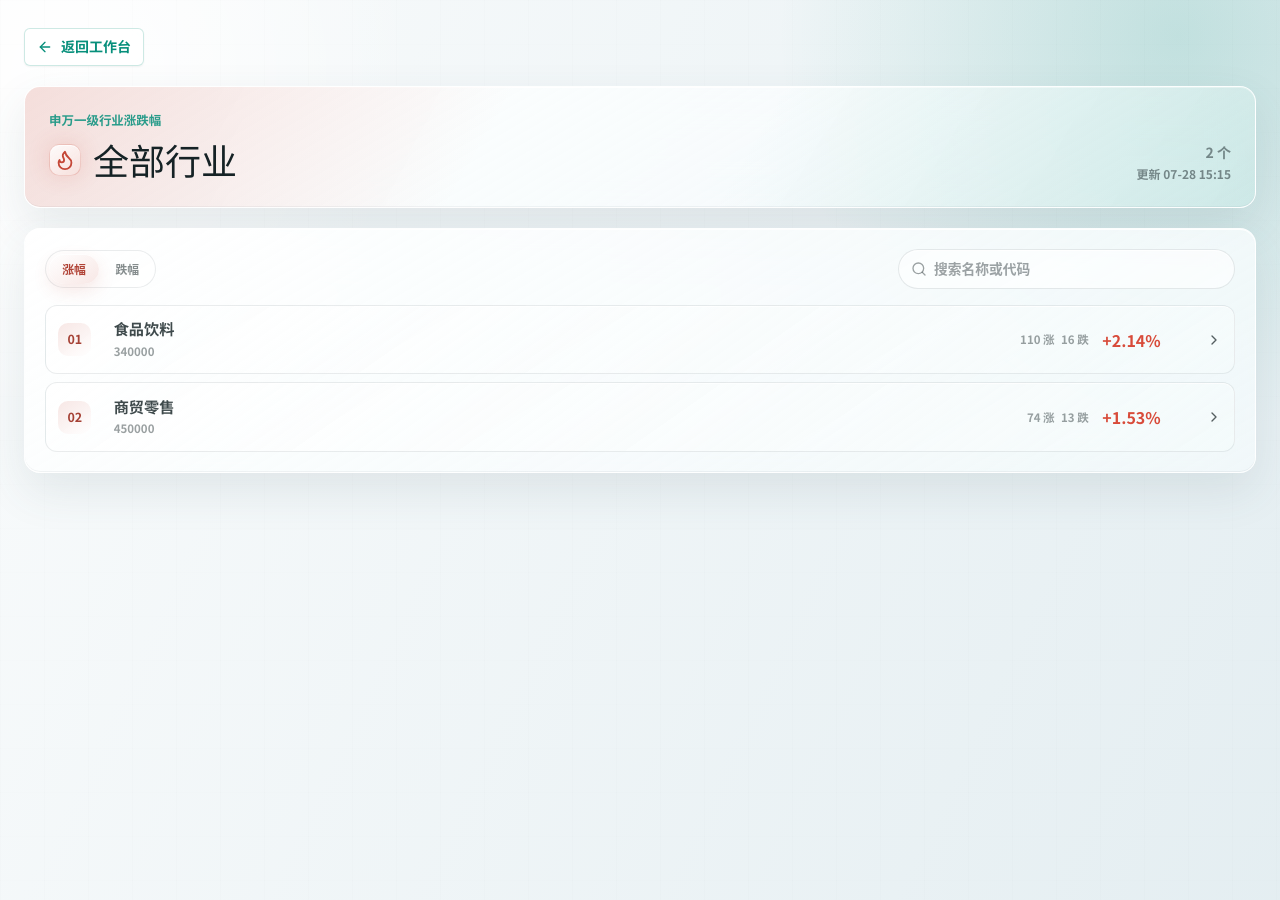
HotspotListView › switches to decline ranking and filters by name or code
Click the button "跌幅" at (127, 269), box [102,254,152,284]
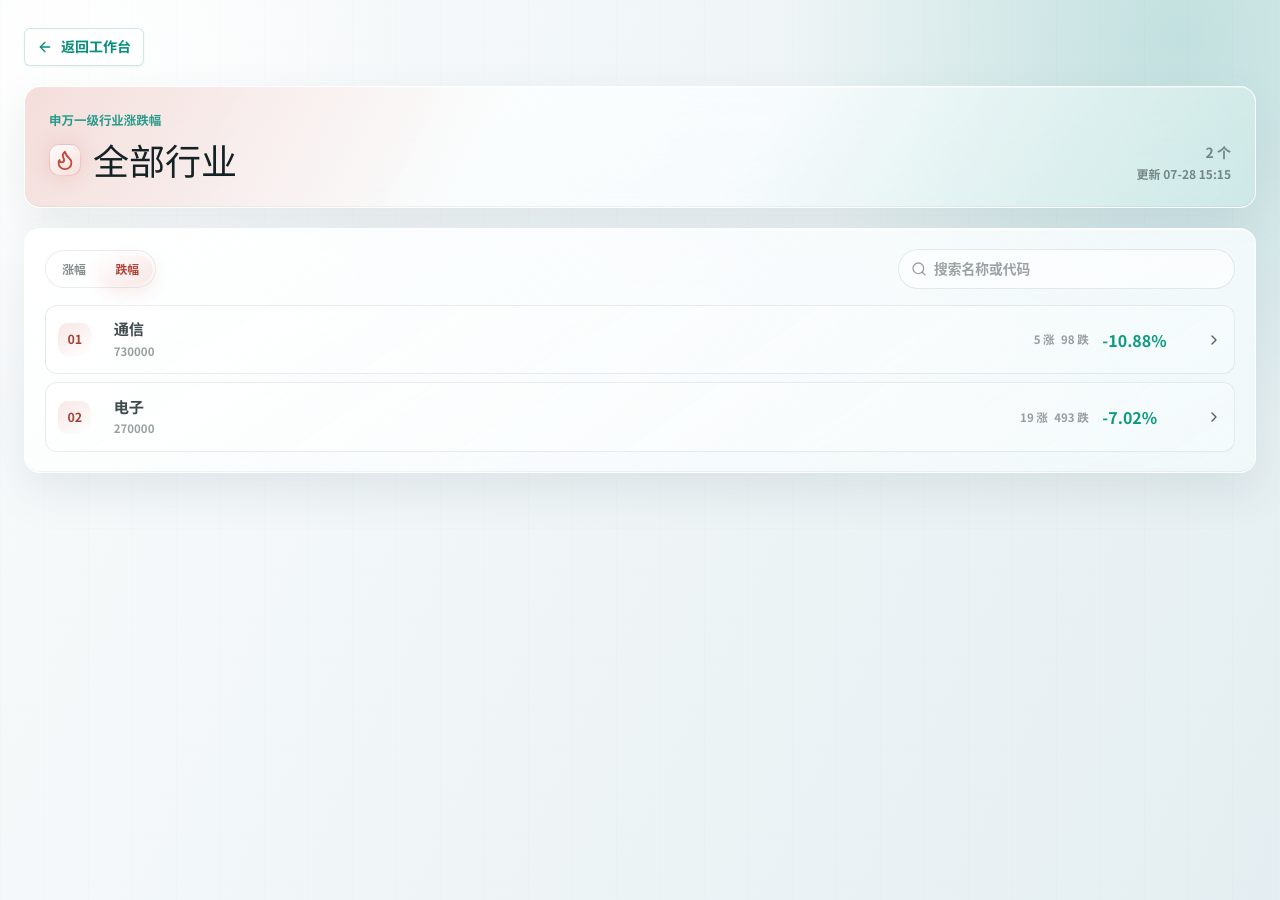
Now the link "食品饮料" is gone
Type "270000" into the field with placeholder "搜索名称或代码" at (1078, 269), box [934,258,1222,279]
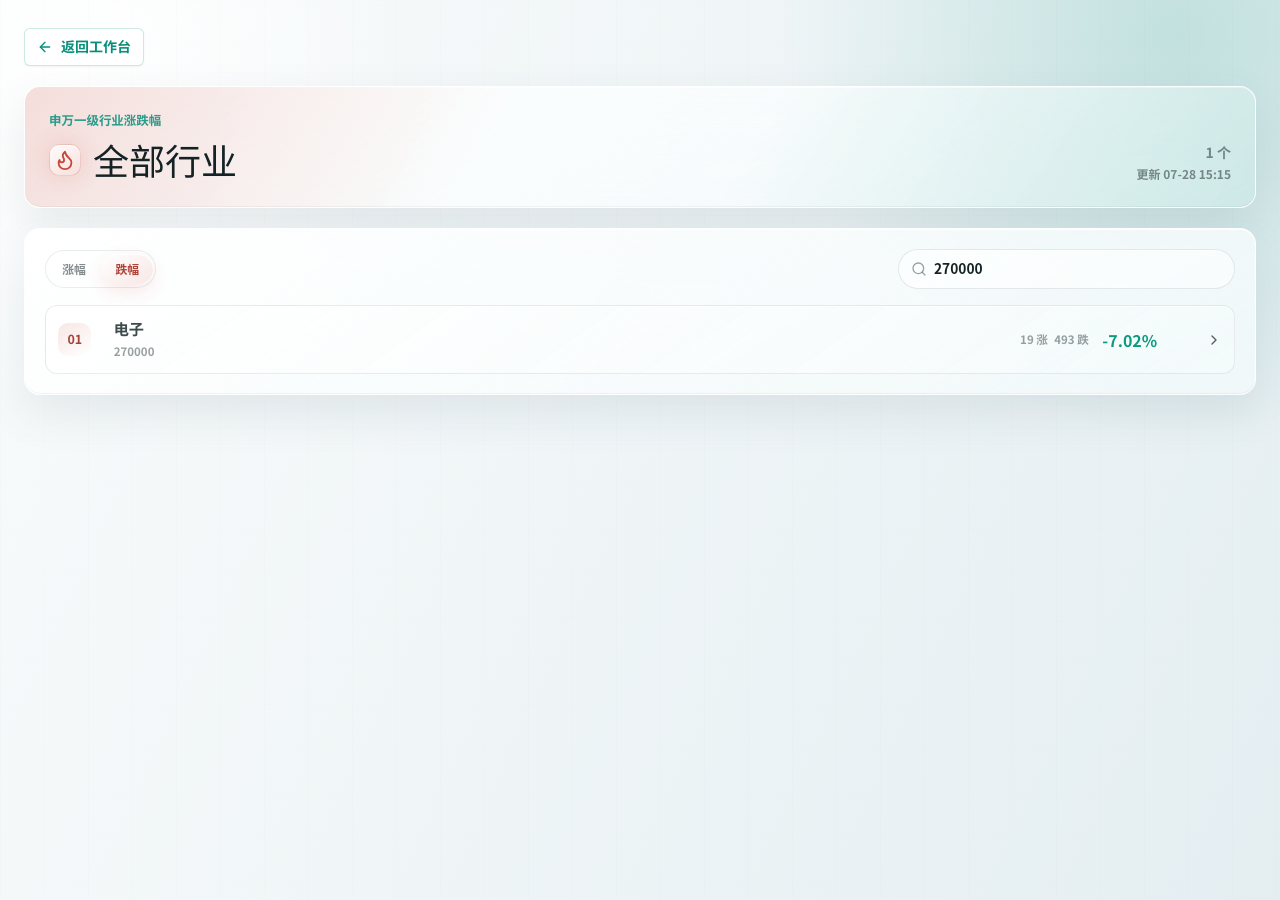
Now the link "通信" is gone
